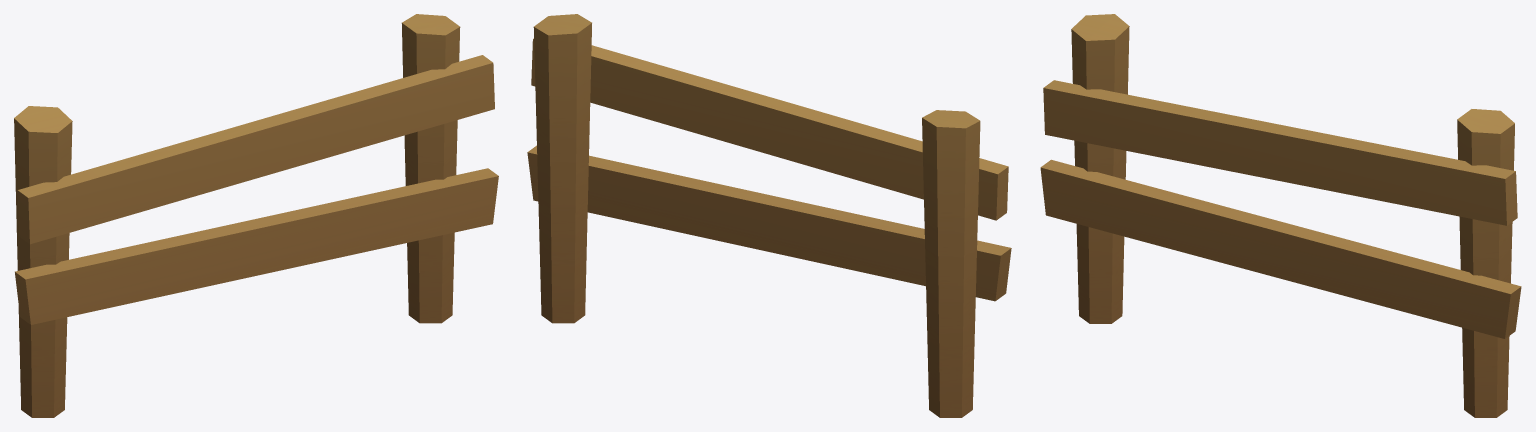
The model's file is Wood_Fences_02.fbx.
The picture shows the model from 3 angles, left to right: view 1: azimuth 30°, elevation 25°; view 2: azimuth 150°, elevation 25°; view 3: azimuth 330°, elevation 25°; orthographic projection.
Parts seen in each view (by area): view 1: Wood_Fences_02; view 2: Wood_Fences_02; view 3: Wood_Fences_02.
Boxes of the visible parts, box(x1,y1,x2,y2) form: Wood_Fences_02: box(14, 14, 498, 417); Wood_Fences_02: box(527, 14, 1011, 417); Wood_Fences_02: box(1040, 14, 1521, 417).
Size of the model in its own units: 178 by 106 by 23.58.
